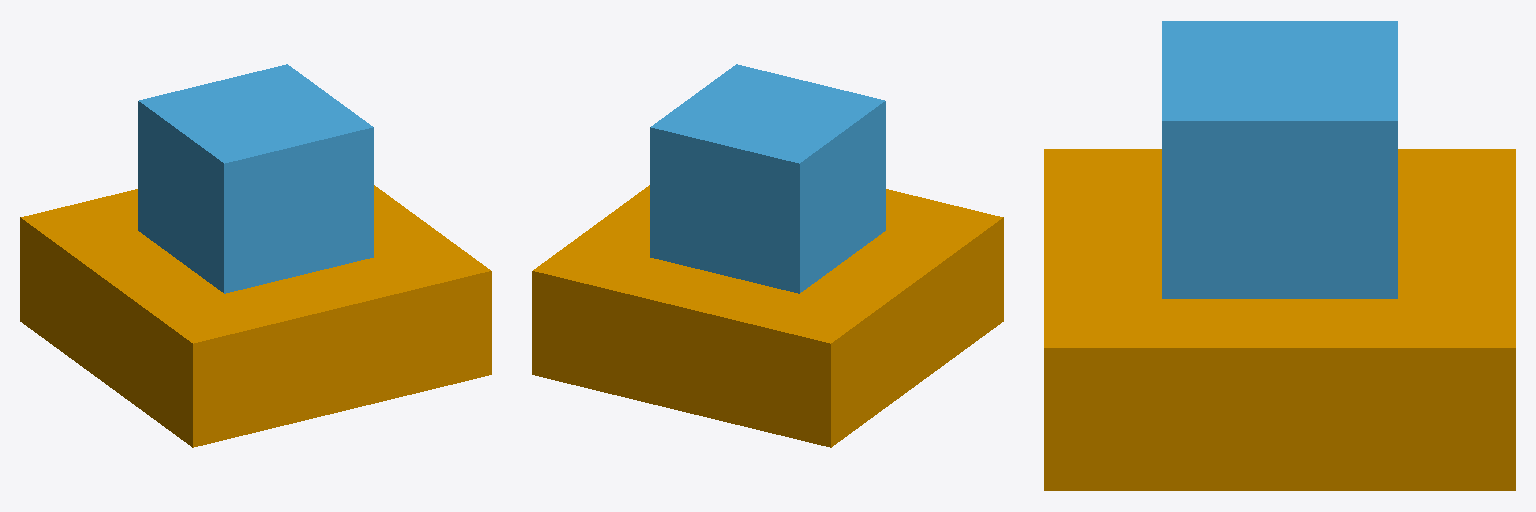
The robot description file, URDF, robot "cube":
<?xml version="1.0"?>
<robot name="cube">
  <link name="cube">
    <inertial>
      <mass value="1"/>
    	<inertia ixx="0.167" ixy="0" ixz="0" iyy="0.167" iyz="0" izz="0.167"/>
  	</inertial>
    <collision>
      <geometry>
        <box size="0.06 0.06 0.02"/>
      </geometry>
    </collision>
    <visual>
      <geometry>
        <box size="0.06 0.06 0.02"/>
      </geometry>
    </visual>
  </link>

  <link name="handle">

    <inertial>
      <mass value="1"/>
    	<inertia ixx="0.167" ixy="0" ixz="0" iyy="0.167" iyz="0" izz="0.167"/>
  	</inertial>

    <collision>
      <geometry>
        <box size="0.03 0.03 0.025"/>
      </geometry>
	<origin rpy="0 0 0" xyz="0 0 0.0225"/>
    </collision>
    <visual>
      <geometry>
        <box size="0.03 0.03 0.025"/>
      </geometry>
	<origin rpy="0 0 0" xyz="0 0 0.0225"/>
    </visual>
  </link>

  <joint name="cube_to_handle" type="fixed">
    <parent link="cube"/>
    <child link="handle"/>
  </joint>

</robot>

--- Render facts (derived) ---
The picture shows the robot from 3 angles, left to right: view 1: azimuth 30°, elevation 25°; view 2: azimuth 150°, elevation 25°; view 3: azimuth 270°, elevation 25°; orthographic projection.
Model cube with 2 links and 1 joints (1 fixed), rooted at cube, posed every joint at zero.
Visible links, largest first — view 1: cube, handle; view 2: cube, handle; view 3: cube, handle.
Boxes of the visible links, x1,y1,x2,y2 form: cube: (20, 185, 491, 447); handle: (138, 64, 373, 293); cube: (532, 185, 1003, 447); handle: (650, 64, 885, 293); cube: (1044, 149, 1515, 490); handle: (1162, 21, 1397, 298).
Size in the robot's own frame: 0.06 by 0.06 by 0.045 metres.
Geometry: primitives only (box / cylinder / sphere), no mesh files.